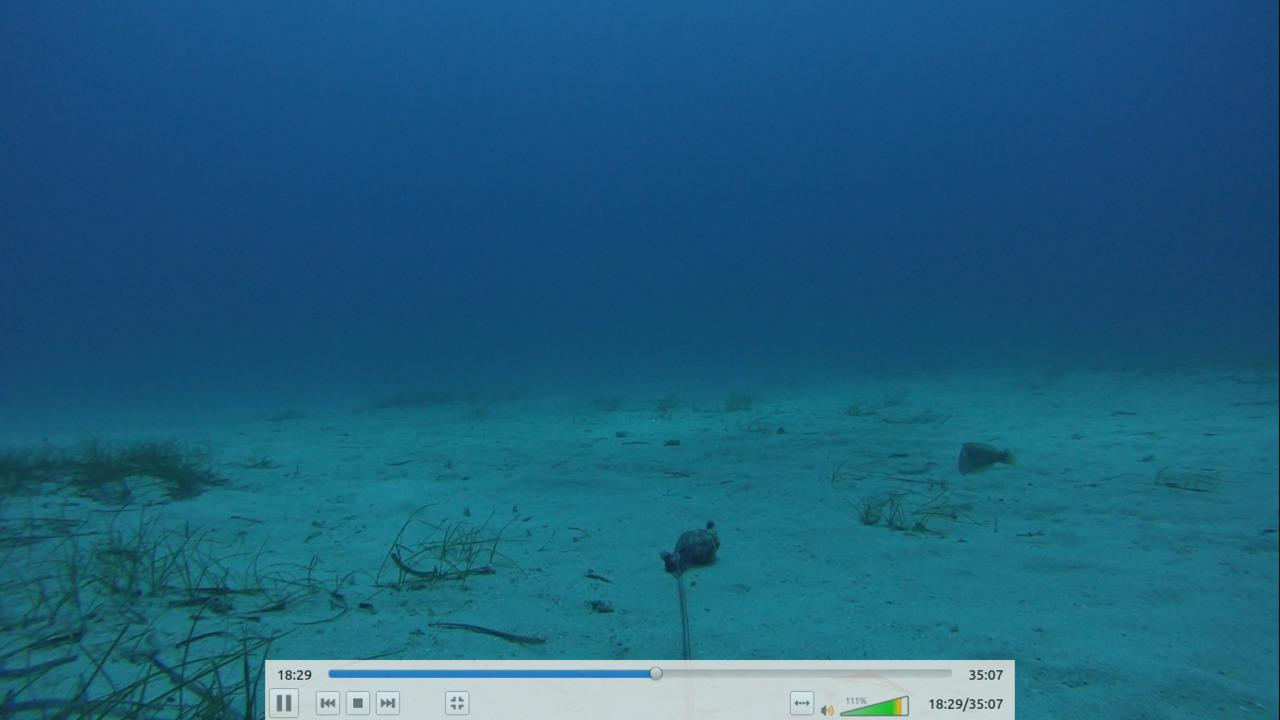raor: (952, 434, 1015, 475)
